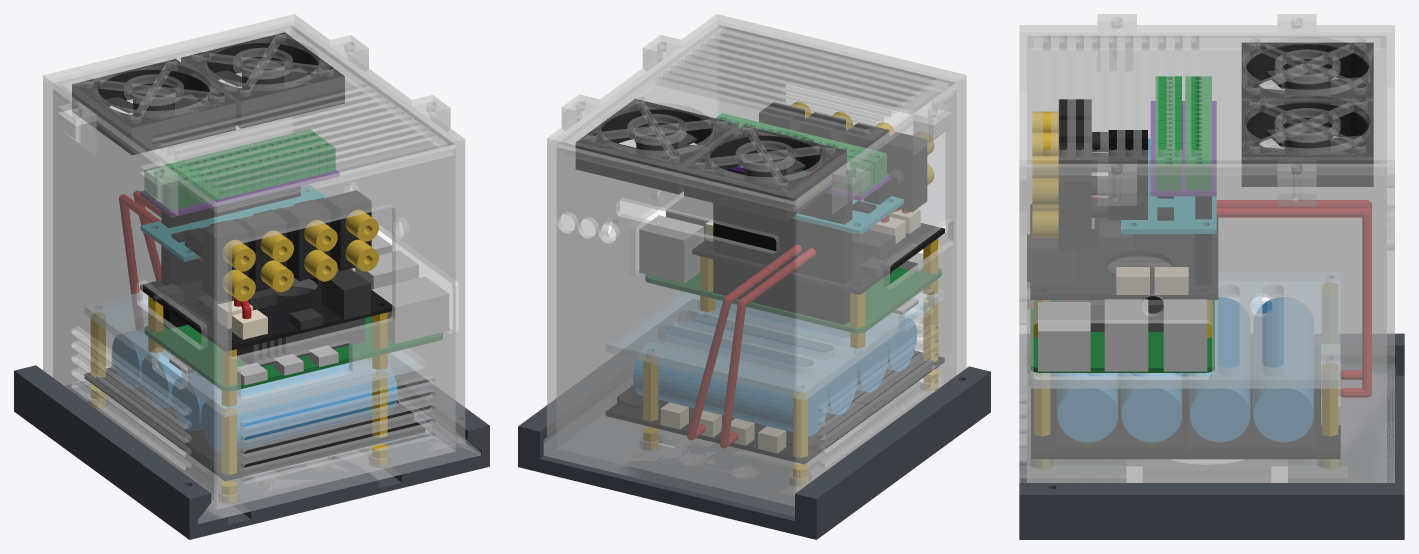
The model's file is assembly.glb.
The picture shows the model from 3 angles, left to right: view 1: azimuth 30°, elevation 25°; view 2: azimuth 150°, elevation 25°; view 3: azimuth 270°, elevation 25°; orthographic projection. The views are drawn at different scales.
Parts seen in each view (by area): view 1: tub, lid, mount, fan, cells, terminals, plate, splitters, pi_metal, rca, standoffs, batt_holders (+12 smaller); view 2: tub, lid, mount, fan, plate, headers, cells, standoffs, splitters, pi_metal, batt_cables, pi_pcb (+10 smaller); view 3: tub, lid, mount, cells, fan, plate, pi_metal, splitters, terminals, ups_pcb, batt_holders, batt_cables (+12 smaller).
Boxes of the visible parts, x1,y1,x2,y2 form: tub: (43, 21, 480, 523); lid: (43, 14, 464, 212); mount: (14, 365, 489, 539); fan: (72, 32, 344, 154); cells: (112, 337, 397, 452); terminals: (144, 129, 335, 210); plate: (84, 292, 424, 416); splitters: (202, 190, 371, 300); pi_metal: (169, 234, 448, 385); rca: (222, 210, 378, 301); standoffs: (90, 296, 387, 503); batt_holders: (96, 375, 413, 468); tub: (543, 21, 966, 516); lid: (547, 14, 966, 210); mount: (518, 319, 990, 539); fan: (575, 99, 846, 220); plate: (606, 289, 944, 400); headers: (713, 169, 851, 324); cells: (633, 305, 916, 435); standoffs: (643, 238, 938, 486); splitters: (759, 102, 926, 211); pi_metal: (639, 196, 923, 314); batt_cables: (687, 209, 909, 448); pi_pcb: (645, 267, 941, 333); tub: (1019, 21, 1394, 482); lid: (1019, 14, 1394, 177); mount: (1019, 333, 1404, 539); cells: (1057, 297, 1313, 442); fan: (1241, 42, 1373, 186); plate: (1031, 272, 1340, 388); pi_metal: (1027, 282, 1207, 371); splitters: (1058, 99, 1108, 250); terminals: (1155, 76, 1211, 190); ups_pcb: (1030, 204, 1217, 299); batt_holders: (1056, 373, 1314, 454); batt_cables: (1092, 196, 1371, 397).
Bounding box in the file's own units: 0.1156 × 0.1227 × 0.1169.
